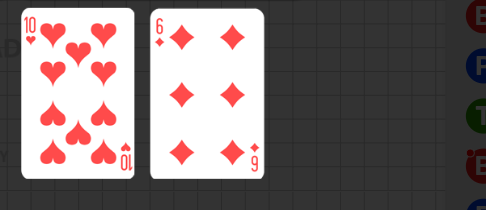10H: (23, 14, 37, 46)
6D: (248, 141, 260, 173)
